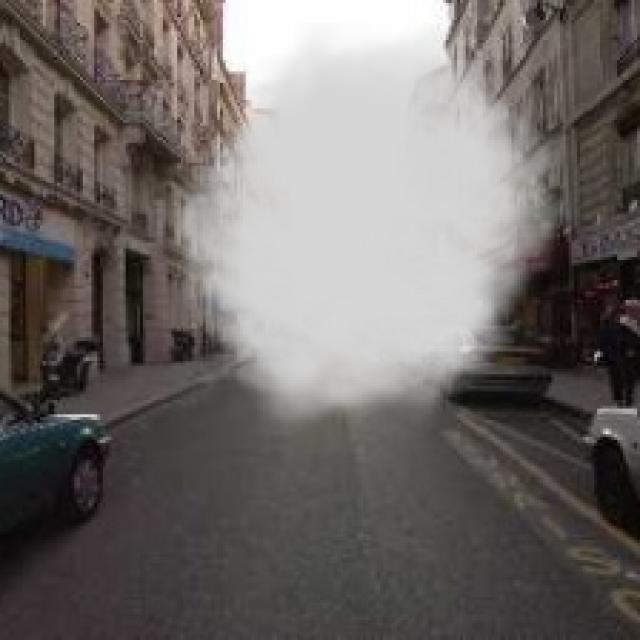Smoke: (154, 23, 577, 440)
